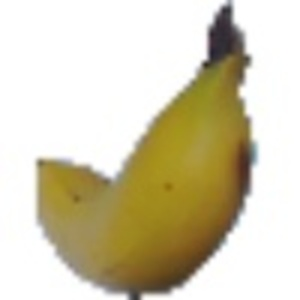banana: (32, 1, 258, 293)
